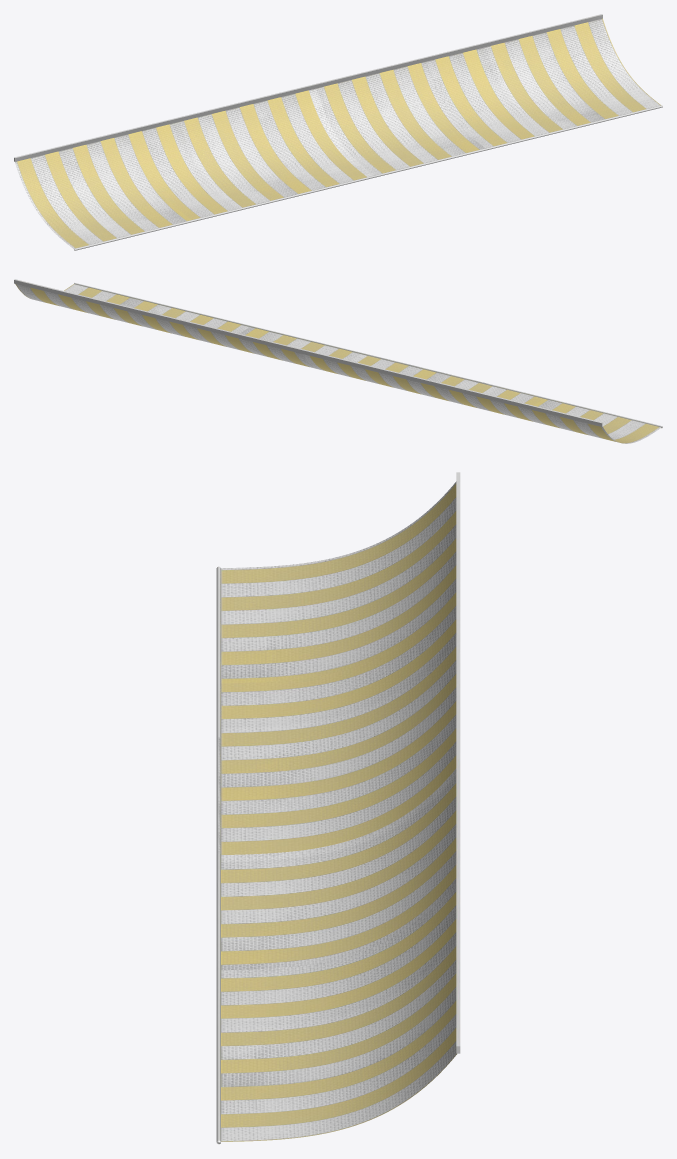
File: umbrella_3.glb
The picture shows the model from 3 angles, top to bottom: view 1: azimuth 30°, elevation 25°; view 2: azimuth 150°, elevation 25°; view 3: azimuth 270°, elevation 25°; orthographic projection. The views are drawn at different scales.
Parts seen in each view (by area): view 1: umbrella_3; view 2: umbrella_3; view 3: umbrella_3.
Boxes of the visible parts, bbox=[...] form: umbrella_3: bbox=[14, 14, 662, 250]; umbrella_3: bbox=[14, 279, 662, 443]; umbrella_3: bbox=[216, 472, 460, 1144].
Bounding box in the file's own units: 6 × 0.4791 × 1.08.
1 material, 1 textured.
